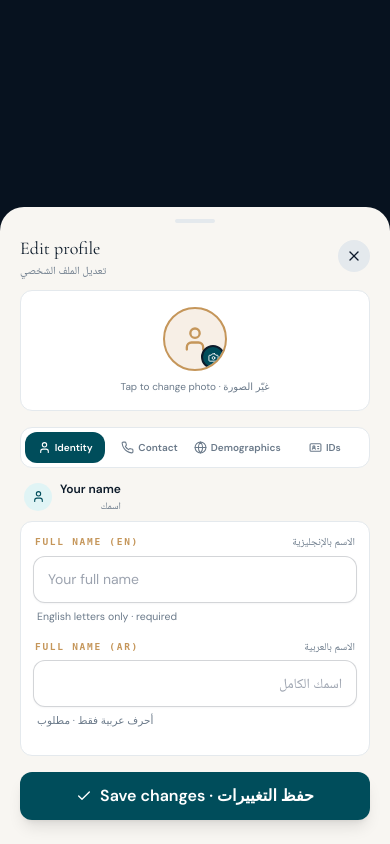
Scenario: ProfileEditSheet · name validation › requires both names and shows error indicator on Identity tab on save
Expected: the field with placeholder "Your full name" is shown, 33,556 -> 357,603
Click Save with empty fields
Click the button "Save changes · حفظ التغييرات" at (195, 796), box 20,772 -> 370,820
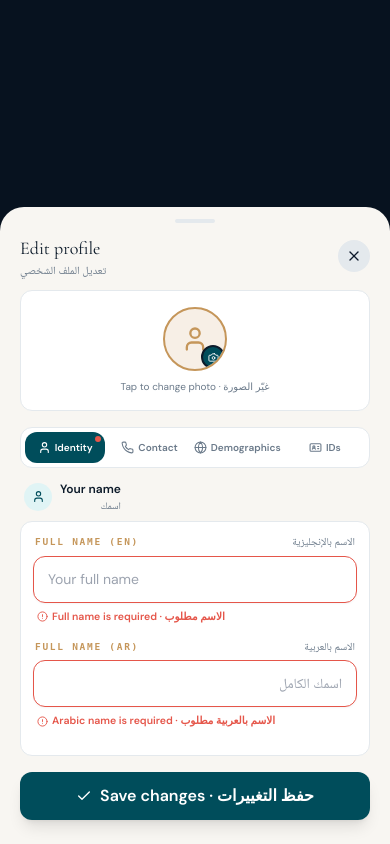
Result: the text "Full name is required · الاسم مطلوب" is shown at 37,610 -> 225,623
Result: the text "Arabic name is required · الاسم بالعربية مطلوب" is shown at 37,714 -> 275,727
Result: the 2nd element with class "absolute" is shown at 95,436 -> 101,442
